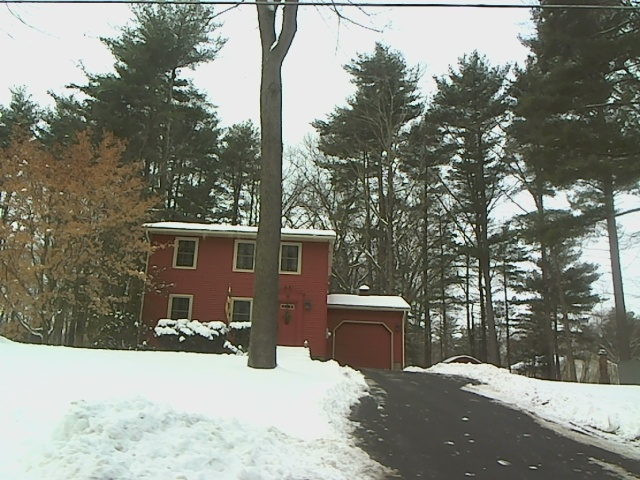Ploughed: (353, 364, 574, 474)
